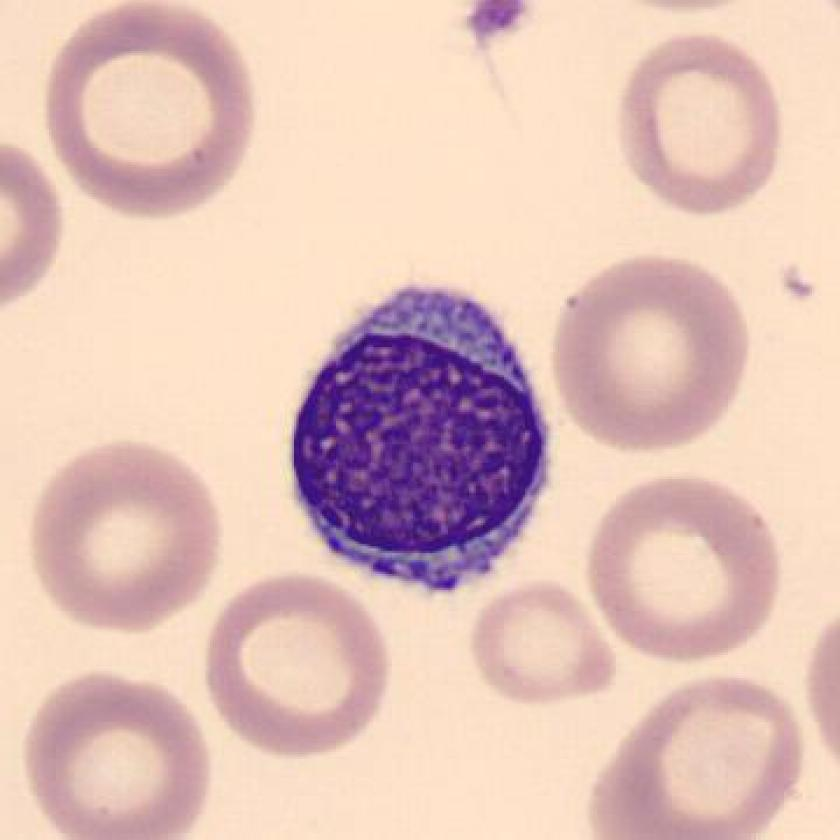lymphocyte: (265, 265, 568, 612)
platelets: (461, 1, 522, 48)
